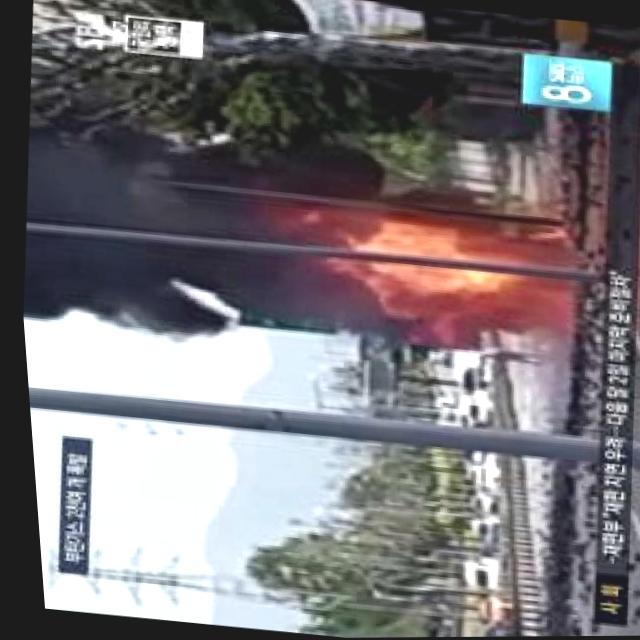Fire: (363, 206, 589, 336)
